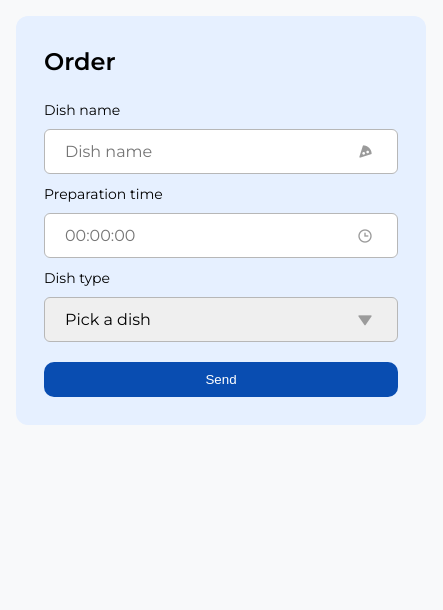
Scenario: <Form /> › Switching dish type during form completion › should render pizza related inputs, then should switch to soup related input
Select "Pizza" in the dropdown: point(221, 320) [44, 297, 398, 342]
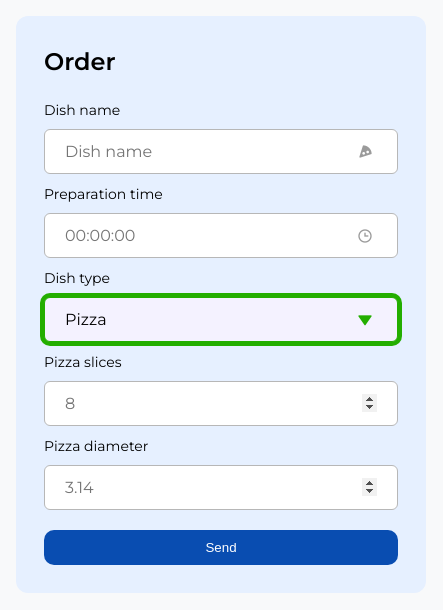
Expected: the number field labelled "Pizza slices" is shown, [44, 381, 398, 426]
Expected: the number field labelled "Pizza diameter" is shown, [44, 465, 398, 510]
switching from dish type pizza to dish type soup
Select "Soup" in the dropdown: point(221, 320) [44, 297, 398, 342]
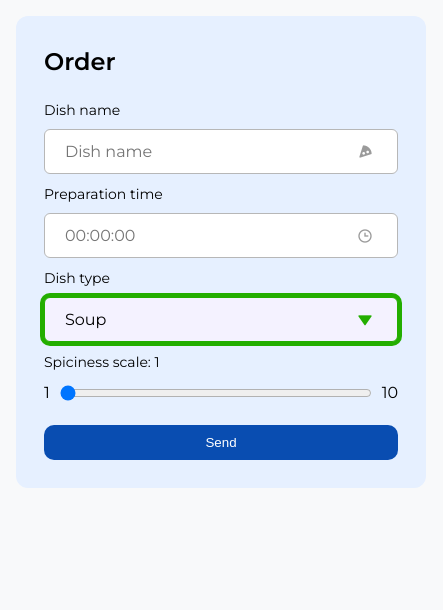
Expected: the label labelled "Pizza slices" is gone
Expected: the label labelled "Pizza diameter" is gone
Expected: the slider is shown, [60, 385, 372, 401]
